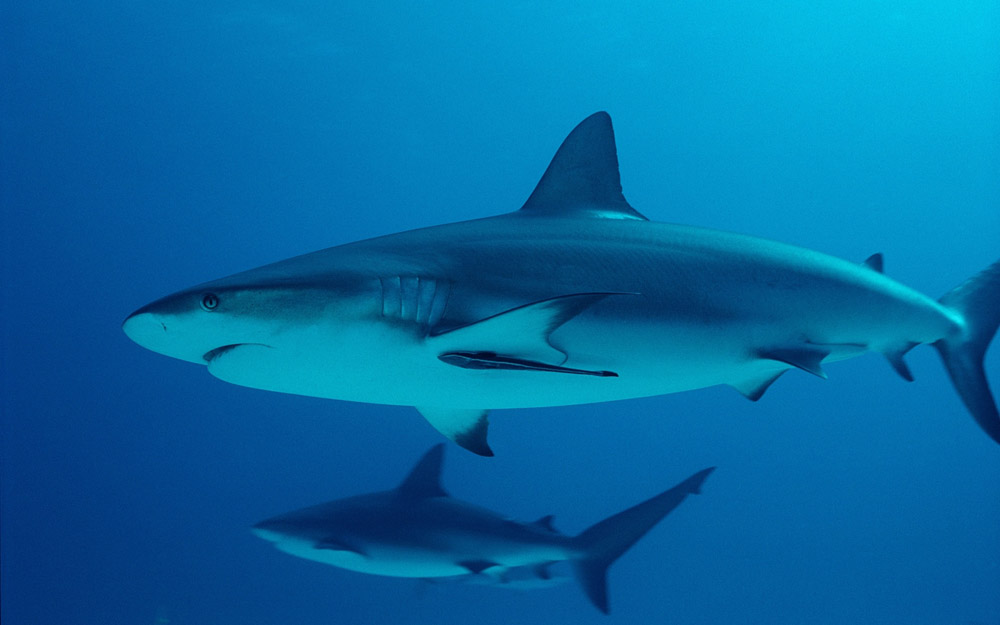fish: (117, 108, 1000, 461), (248, 446, 720, 620)
